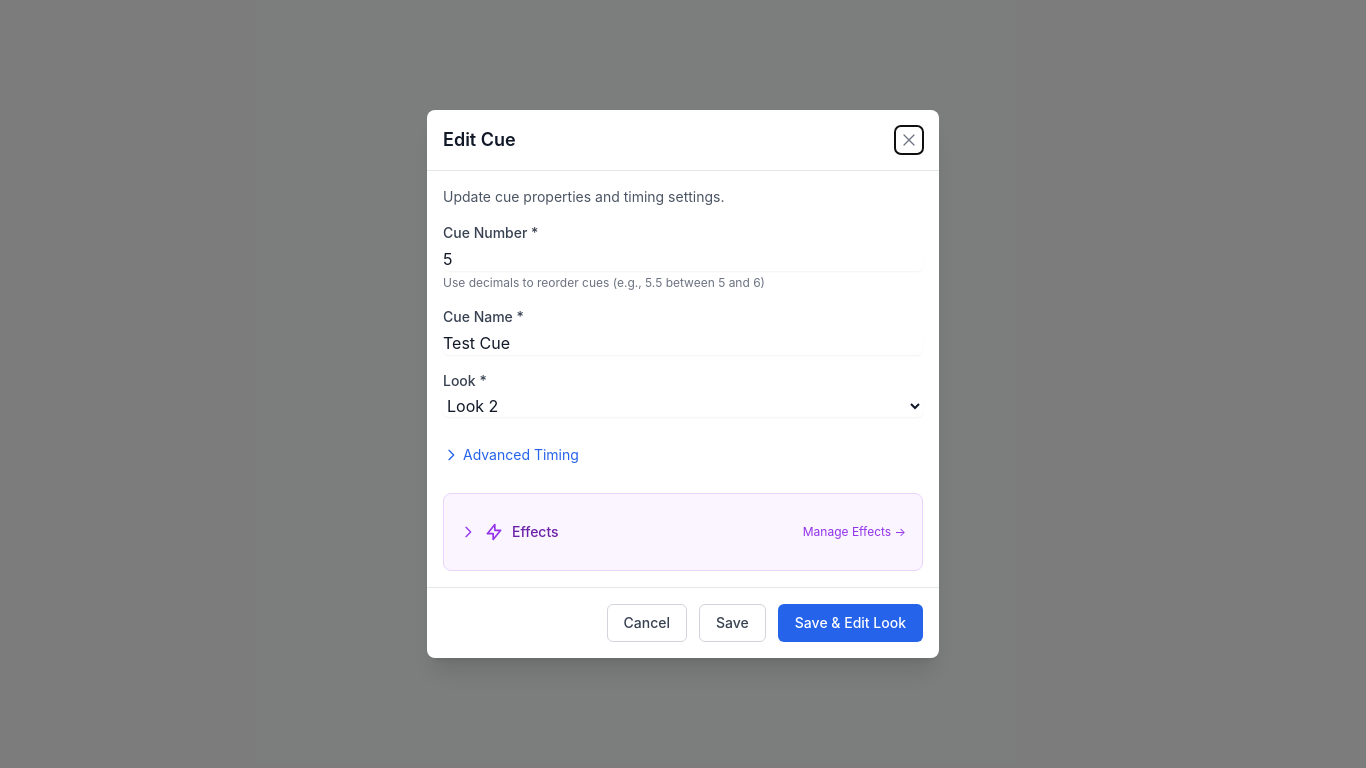
Test: EditCueDialog › Pre-populated Values › pre-populates fade times from cue
The image size is (1366, 768).
# Show advanced timing
Click the button "Advanced Timing".
click(511, 455)  # box [443,433,579,477]
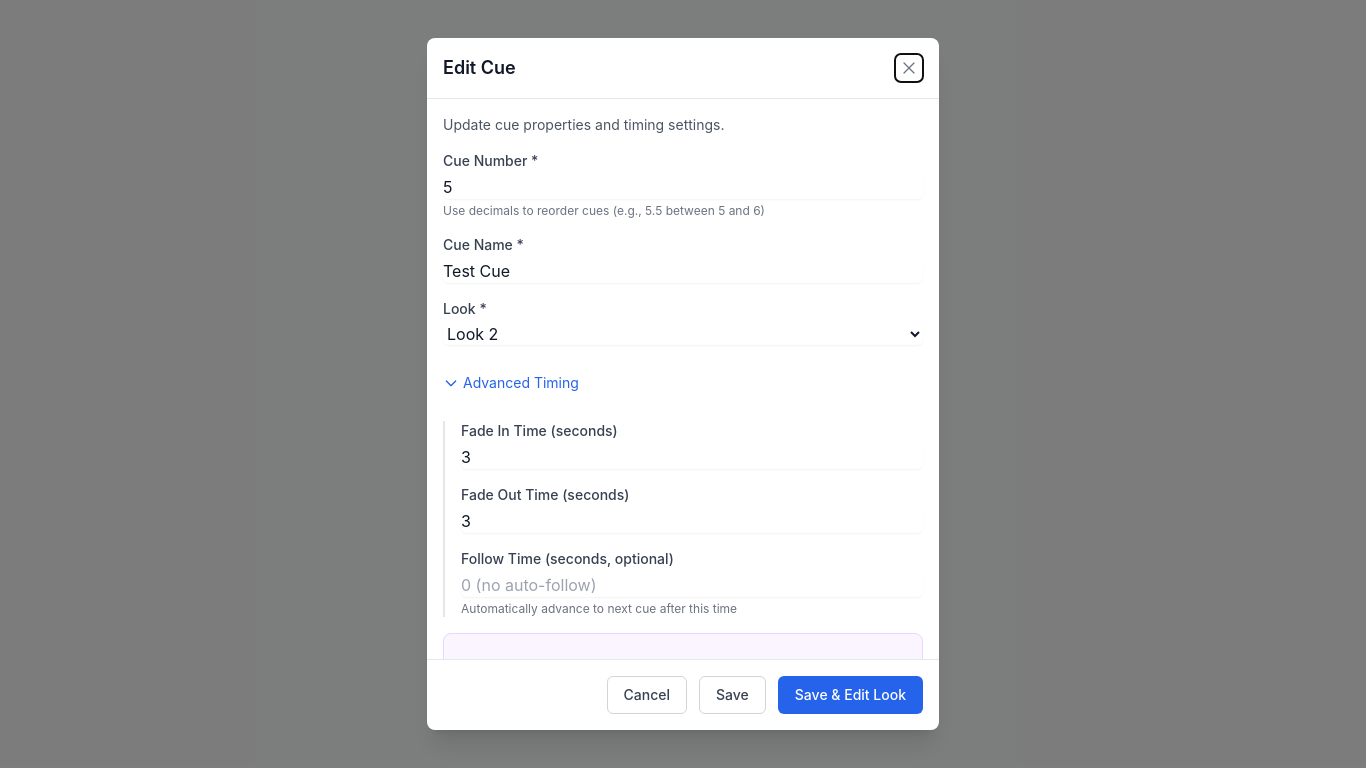
Check: the field labelled "Fade In Time (seconds)" holds "3", box [461,445,923,469]
Check: the field labelled "Fade Out Time (seconds)" holds "3", box [461,509,923,533]
